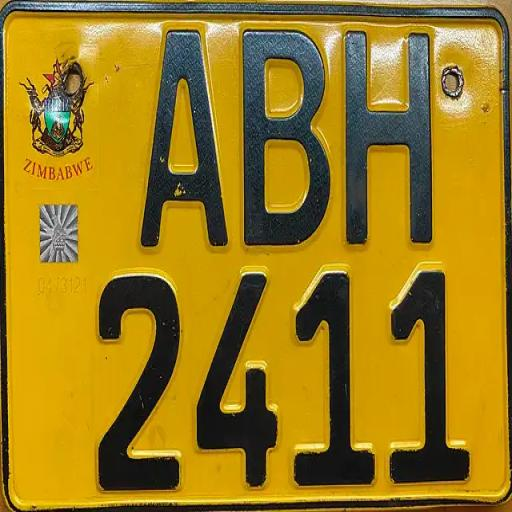number-plates: (7, 8, 492, 500)
